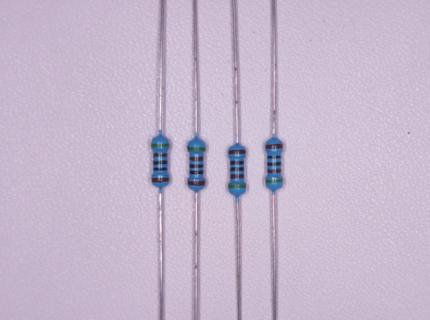Black band: (153, 160, 168, 166), (230, 167, 244, 172), (153, 167, 167, 171), (230, 161, 244, 165), (190, 171, 203, 175), (268, 162, 281, 166), (267, 156, 281, 159), (190, 165, 203, 168)
Brown band: (265, 143, 284, 150), (152, 178, 170, 183), (230, 174, 245, 179), (267, 169, 281, 174), (188, 181, 205, 185), (228, 150, 245, 154), (153, 153, 167, 157), (190, 157, 203, 161)
Green band: (229, 184, 246, 189), (151, 144, 169, 148), (266, 179, 283, 183), (188, 147, 205, 151)
